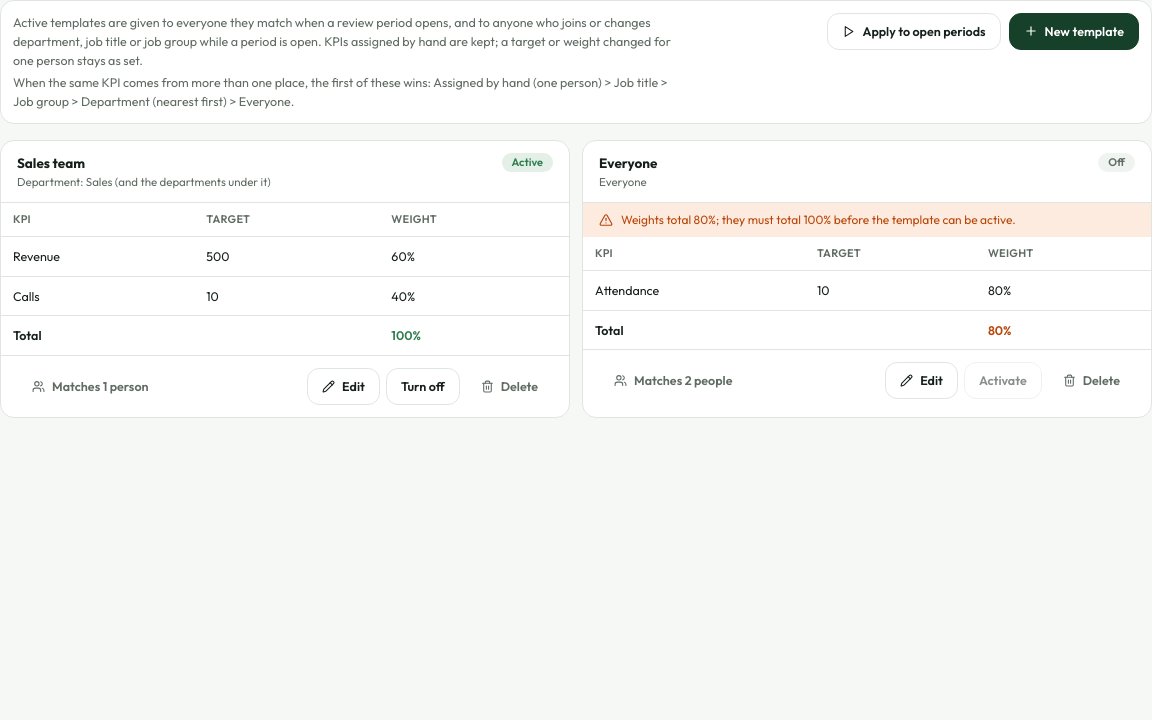
KPI templates › an unfinished template can be saved turned off
The image size is (1152, 720).
Later steps or results of the test are not shown.
Click the button with aria-label "Edit Everyone": point(922, 381) [885,362,958,399]
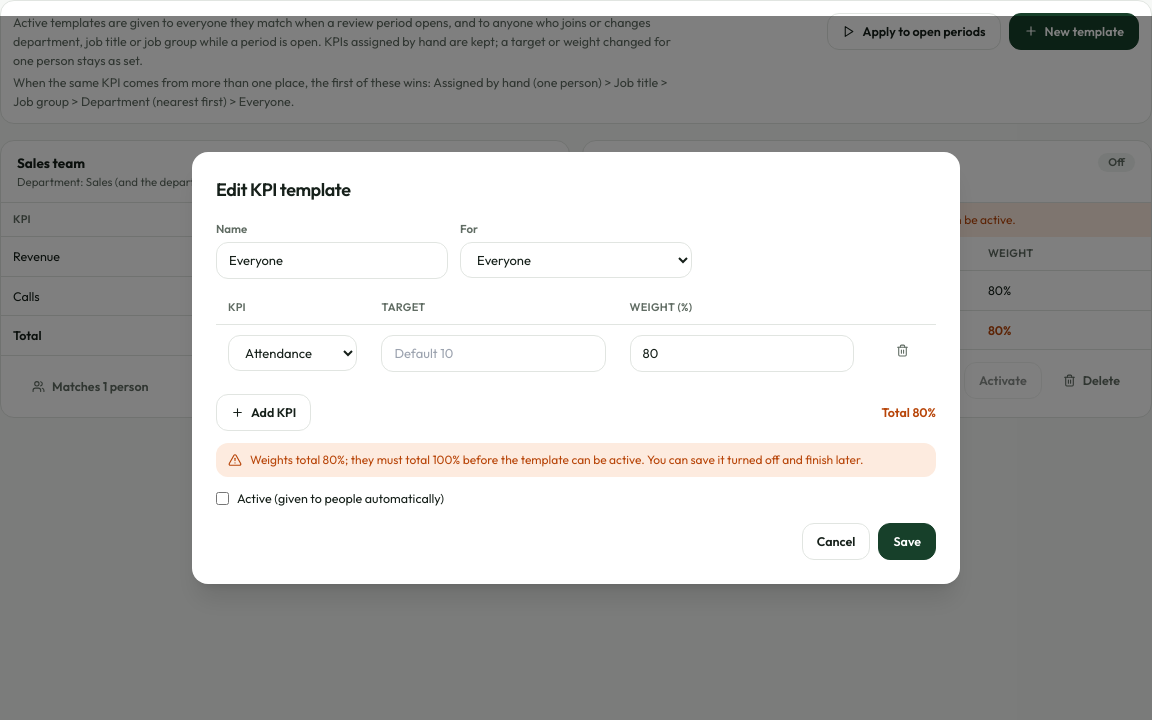
Now the checkbox labelled "Active (given to people automatically)" is not checked, box [216,492,229,505]
